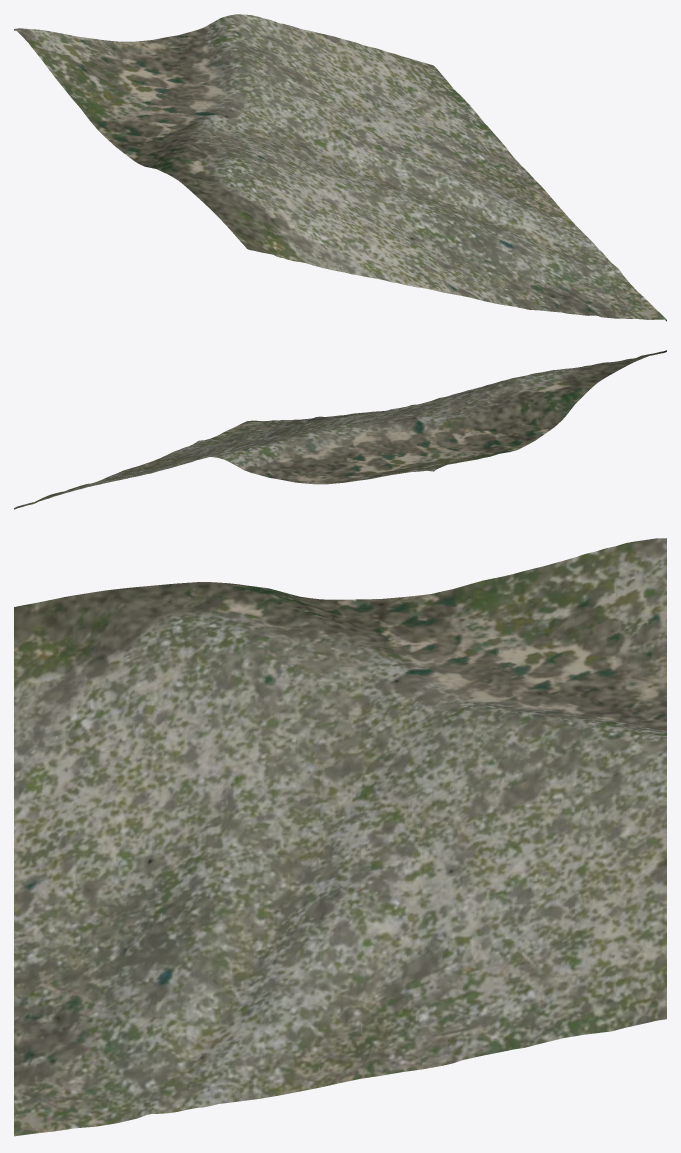
3 renders of one model, top to bottom at view 1: azimuth 30°, elevation 25°; view 2: azimuth 150°, elevation 25°; view 3: azimuth 270°, elevation 25°, orthographic. The views are drawn at different scales.
Bounding box in the file's own units: 250 × 128 × 241.
1 material, 1 textured.
